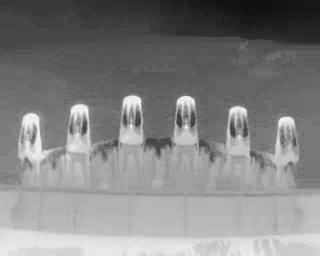claw: (226, 105, 252, 160), (66, 103, 92, 155), (173, 95, 199, 147), (119, 94, 145, 145), (275, 116, 301, 167), (19, 112, 42, 161)
